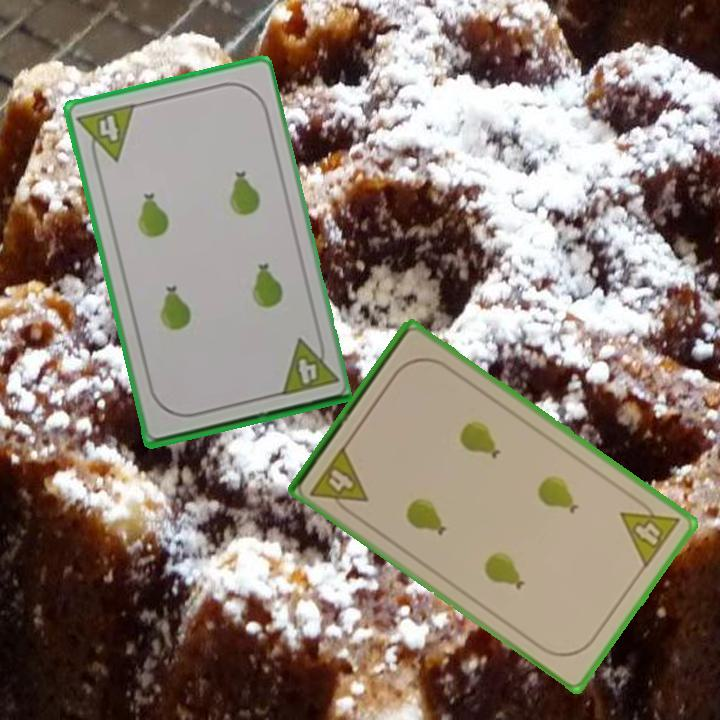4p: (616, 491, 684, 571), (307, 442, 371, 520), (73, 100, 138, 169), (275, 331, 339, 399)
